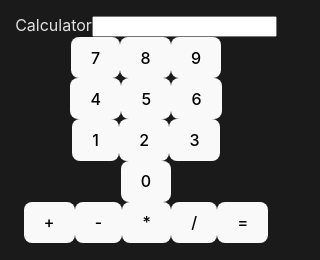
Scenario: Calculator › should calculate the result after clicking =
Click the button "2" at (144, 140), box [119, 119, 169, 161]
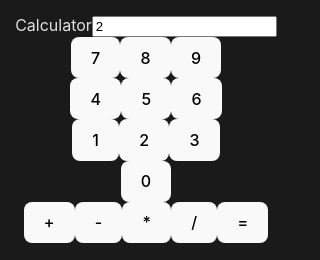
Click the button "0" at (146, 181), box [121, 161, 171, 202]
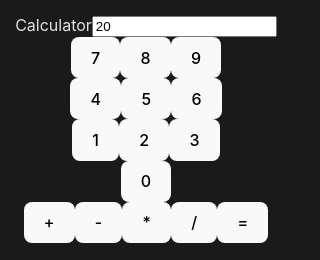
Click the button "+" at (49, 222), box [24, 202, 75, 243]
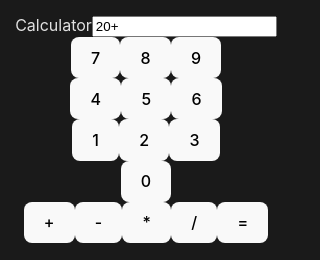
Click the button "3" at (195, 140), box [169, 119, 220, 161]
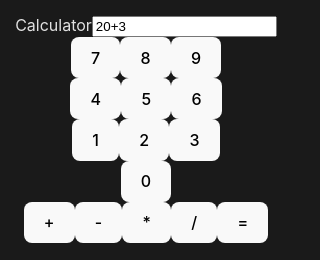
Click the button "5" at (146, 99), box [121, 78, 171, 119]
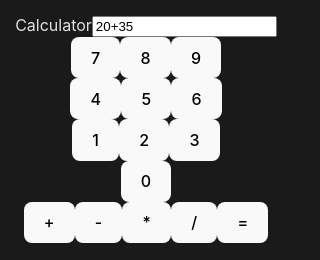
Click the button "=" at (243, 222), box [217, 202, 268, 243]
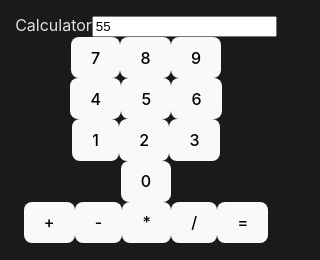
Now the field holds "55", box [92, 16, 277, 37]
